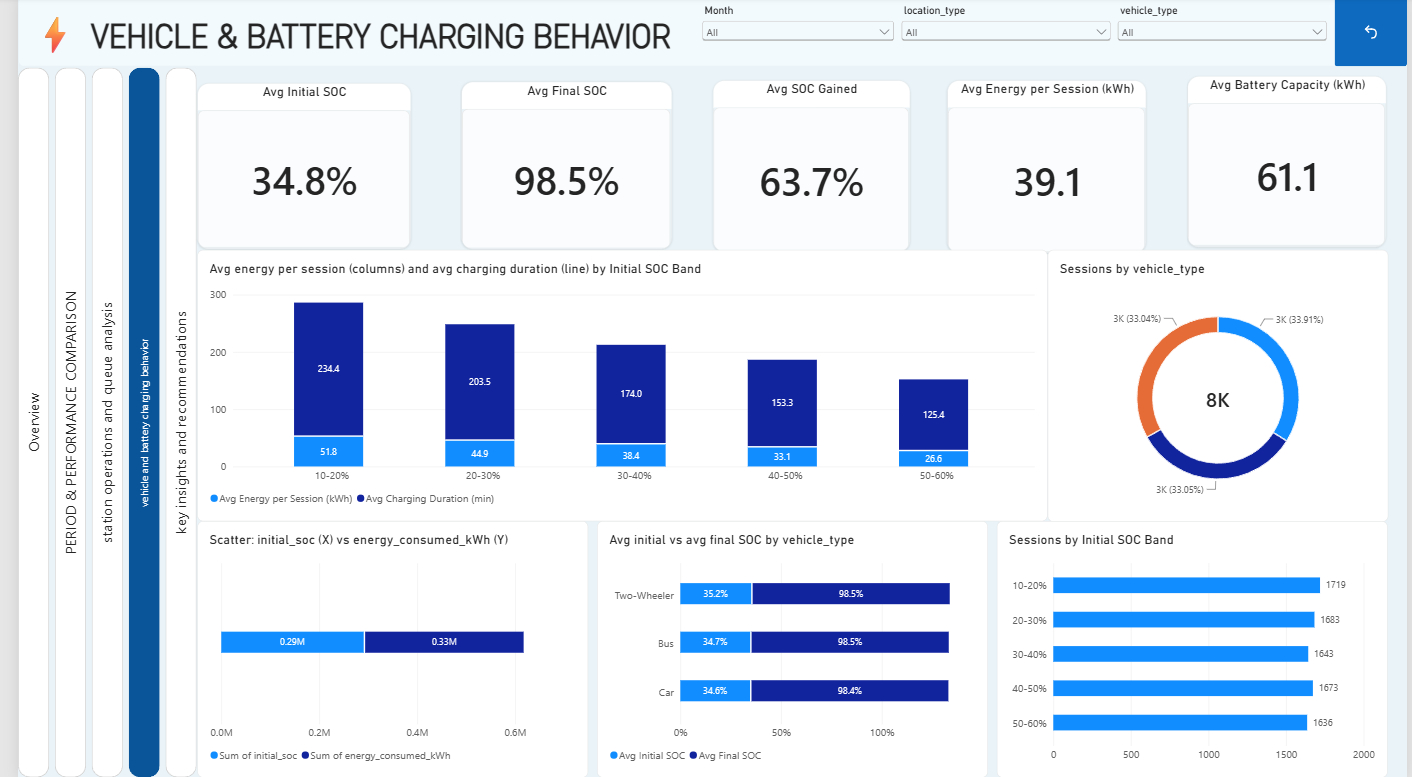

This screenshot's page, from the dashboard's own definition file:
{"tool":"powerbi","page":{"name":"vehicle and battery charging behavior","canvas":[1920,1080],"ordinal":3},"visuals":[{"type":"cardVisual","fields":{"Data":["measure_heading.page4_title"]},"box":[0,0,1919.6,96.4],"z":0},{"type":"cardVisual","title":"Avg Initial SOC","fields":{"Data":["measure_heading.Avg Initial SOC"]},"box":[247.5,120,295.3,229.4],"z":1000},{"type":"cardVisual","title":"Avg Final SOC","fields":{"Data":["measure_heading.Avg Final SOC"]},"box":[612.5,117.5,290.8,231.7],"z":2000},{"type":"cardVisual","title":"Avg Battery Capacity (kWh)","fields":{"Data":["measure_heading.Avg Battery Capacity (kWh)"]},"box":[1617.5,110,274.9,236.2],"z":3000},{"type":"cardVisual","title":"Avg Energy per Session (kWh)","fields":{"Data":["measure_heading.Avg Energy per Session (kWh)"]},"box":[1285,115,274.9,238.5],"z":4000},{"type":"cardVisual","title":"Avg SOC Gained","fields":{"Data":["measure_heading.Avg SOC Gained"]},"box":[960,115,272.5,237.5],"z":5000},{"type":"slicer","fields":{"Values":["DateTable.Month"]},"box":[942,8.9,274.5,78.1],"z":6000},{"type":"slicer","fields":{"Values":["ev_charging_dataset.vehicle_type"]},"box":[1515.6,8.9,299.1,87.1],"z":7000},{"type":"slicer","fields":{"Values":["ev_charging_dataset.location_type"]},"box":[1216.5,8.9,299.1,87.1],"z":8000},{"type":"actionButton","box":[1819.2,0,100.4,96],"z":9000},{"type":"pageNavigator","box":[0,98.2,247.4,981.8],"z":10000},{"type":"columnChart","title":"Avg energy per session (columns) and avg charging duration (line) by Initial SOC Band","fields":{"Category":["ev_charging_dataset.Initial SOC Band"],"Y":["measure_heading.Avg Energy per Session (kWh)","measure_heading.Avg Charging Duration (min)"]},"box":[247.5,350,1175,375],"z":11000},{"type":"donutChart","title":"Sessions by vehicle_type","fields":{"Category":["ev_charging_dataset.vehicle_type"],"Y":["measure_heading.total_charging_session"]},"box":[1422.5,348.9,470.7,375.7],"z":12000},{"type":"barChart","title":"Scatter: initial_soc (X) vs energy_consumed_kWh (Y)","fields":{"Y":["Sum(ev_charging_dataset.initial_soc)","Sum(ev_charging_dataset.energy_consumed_kWh)"]},"box":[247.5,725,540,355],"z":13000},{"type":"barChart","title":"Avg initial vs avg final SOC by vehicle_type ","fields":{"Category":["ev_charging_dataset.vehicle_type"],"Y":["measure_heading.Avg Initial SOC","measure_heading.Avg Final SOC"]},"box":[800,725,540,355],"z":14000},{"type":"barChart","title":"Sessions by Initial SOC Band","fields":{"Category":["ev_charging_dataset.Initial SOC Band"],"Y":["measure_heading.total_charging_session"]},"box":[1352.5,725,540,355],"z":15000}]}

Visuals, with their boxes on the page's 1920x1080 design canvas (x1, y1, x2, y2). These are canvas units, not pixel positions in the 1412x777 screenshot, which may show the page scaled, cropped or inside an application window:
cardVisual - measure_heading.page4_title: [x1=0, y1=0, x2=1920, y2=96]
"Avg Initial SOC" cardVisual: [x1=248, y1=120, x2=543, y2=349]
"Avg Final SOC" cardVisual: [x1=612, y1=118, x2=903, y2=349]
"Avg Battery Capacity (kWh)" cardVisual: [x1=1618, y1=110, x2=1892, y2=346]
"Avg Energy per Session (kWh)" cardVisual: [x1=1285, y1=115, x2=1560, y2=354]
"Avg SOC Gained" cardVisual: [x1=960, y1=115, x2=1232, y2=352]
slicer - DateTable.Month: [x1=942, y1=9, x2=1216, y2=87]
slicer - ev_charging_dataset.vehicle_type: [x1=1516, y1=9, x2=1815, y2=96]
slicer - ev_charging_dataset.location_type: [x1=1216, y1=9, x2=1516, y2=96]
actionButton: [x1=1819, y1=0, x2=1920, y2=96]
pageNavigator: [x1=0, y1=98, x2=247, y2=1080]
"Avg energy per session (columns) and avg charging duration (line) by Initial SOC Band" columnChart: [x1=248, y1=350, x2=1422, y2=725]
"Sessions by vehicle_type" donutChart: [x1=1422, y1=349, x2=1893, y2=725]
"Scatter: initial_soc (X) vs energy_consumed_kWh (Y)" barChart: [x1=248, y1=725, x2=788, y2=1080]
"Avg initial vs avg final SOC by vehicle_type " barChart: [x1=800, y1=725, x2=1340, y2=1080]
"Sessions by Initial SOC Band" barChart: [x1=1352, y1=725, x2=1892, y2=1080]
